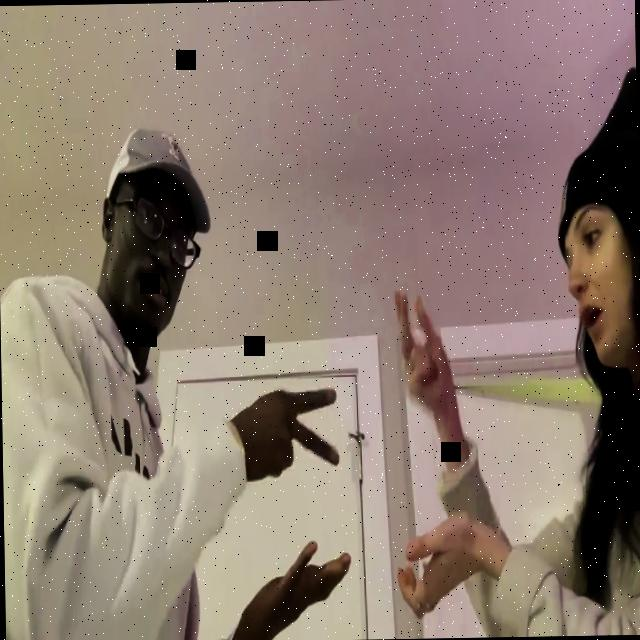Scissors: (234, 383, 340, 481), (392, 289, 452, 416)
